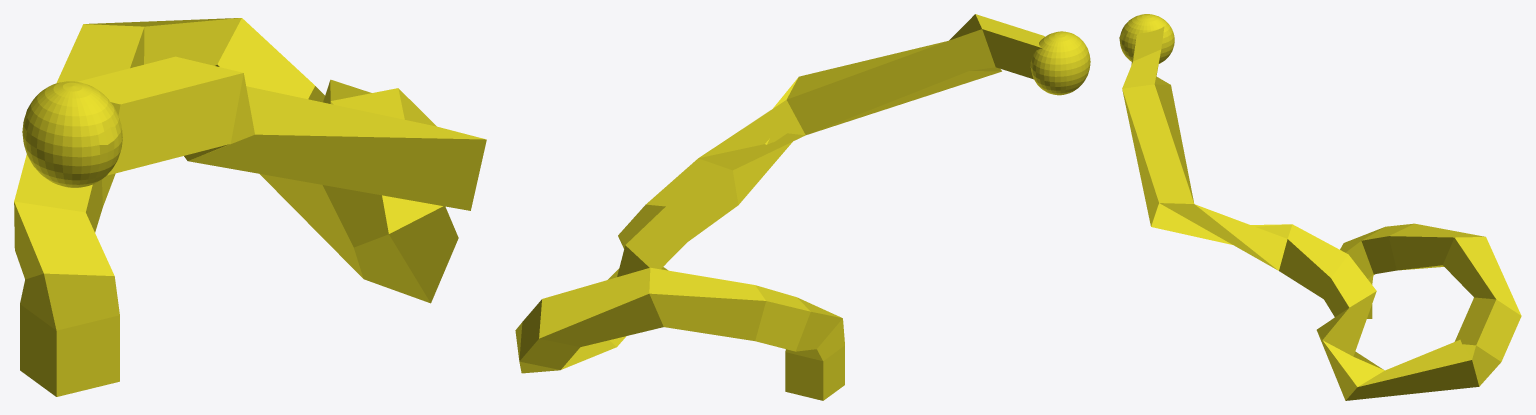
The model's file is dragon .glb.
3 views of the same model, side by side, from view 1: azimuth 30°, elevation 25°; view 2: azimuth 150°, elevation 25°; view 3: azimuth 270°, elevation 25° (orthographic). The views are drawn at different scales.
Visible parts, largest first — view 1: Cube, Sphere; view 2: Cube, Sphere; view 3: Cube, Sphere.
Boxes of the visible parts, x1,y1,x2,y2 form: Cube: [14, 18, 486, 396]; Sphere: [22, 81, 122, 187]; Cube: [515, 14, 1044, 400]; Sphere: [1030, 31, 1090, 95]; Cube: [1122, 26, 1521, 400]; Sphere: [1119, 14, 1174, 63].
Size of the model in its own units: 54.27 by 40.47 by 59.23.
